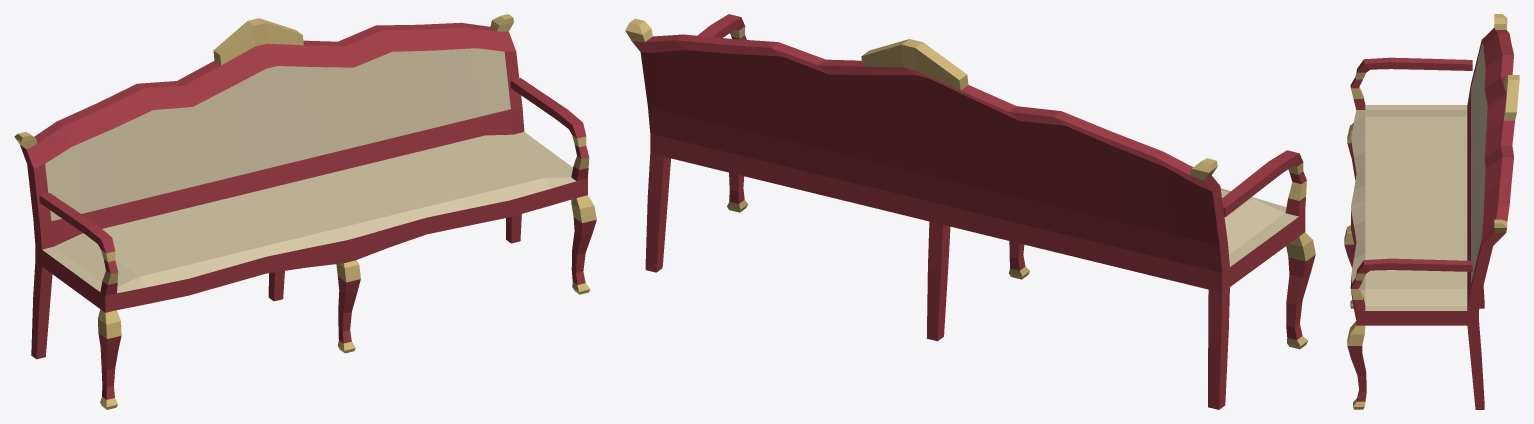
The model's file is sofalargo.fbx.
The picture shows the model from 3 angles, left to right: view 1: azimuth 30°, elevation 25°; view 2: azimuth 150°, elevation 25°; view 3: azimuth 270°, elevation 25°; orthographic projection. The views are drawn at different scales.
Parts seen in each view (by area): view 1: sofa_largo; view 2: sofa_largo; view 3: sofa_largo.
Boxes of the visible parts, x1=… form: sofa_largo: x1=14, y1=14, x2=596, y2=409; sofa_largo: x1=625, y1=14, x2=1315, y2=409; sofa_largo: x1=1344, y1=14, x2=1519, y2=409.
Size of the model in its own units: 214 by 109 by 75.63.
